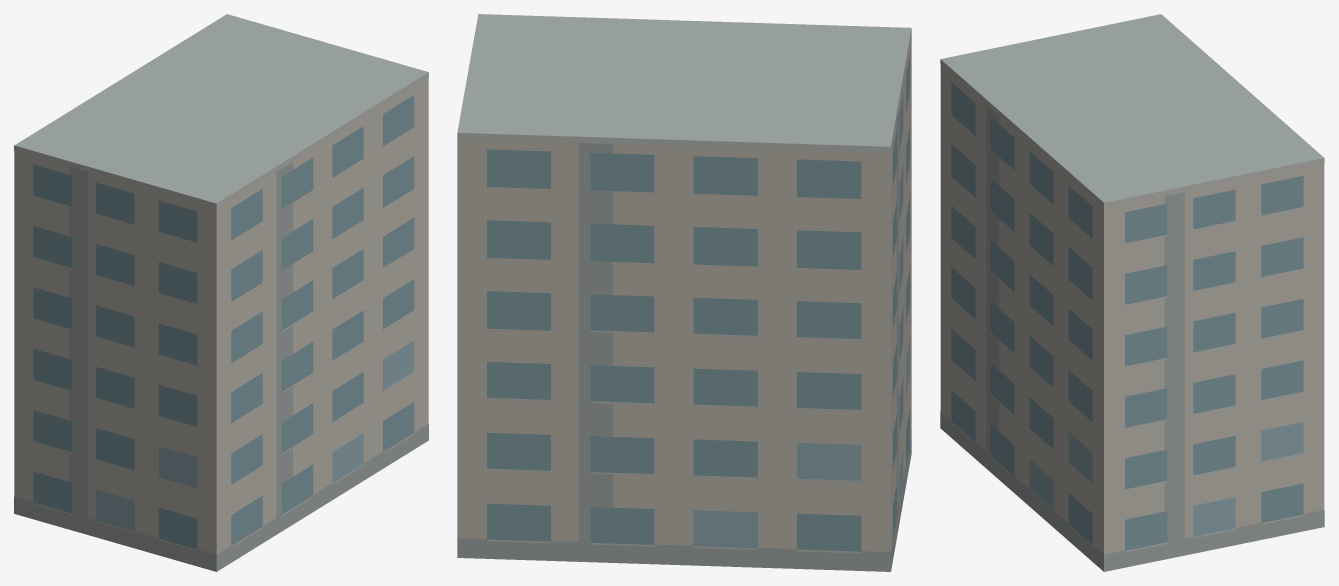
The model's file is survey-upis-32799923.glb.
3 renders of one model, left to right at view 1: azimuth 30°, elevation 25°; view 2: azimuth 150°, elevation 25°; view 3: azimuth 270°, elevation 25°, orthographic. The views are drawn at different scales.
Visible parts, largest first — view 1: survey-upis-32799923.tmp; view 2: survey-upis-32799923.tmp; view 3: survey-upis-32799923.tmp.
Boxes of the visible parts, x1,y1,x2,y2 form: survey-upis-32799923.tmp: [14, 14, 428, 571]; survey-upis-32799923.tmp: [457, 14, 911, 571]; survey-upis-32799923.tmp: [940, 14, 1324, 571].
Size of the model in its own units: 18.05 by 16.45 by 15.52.
